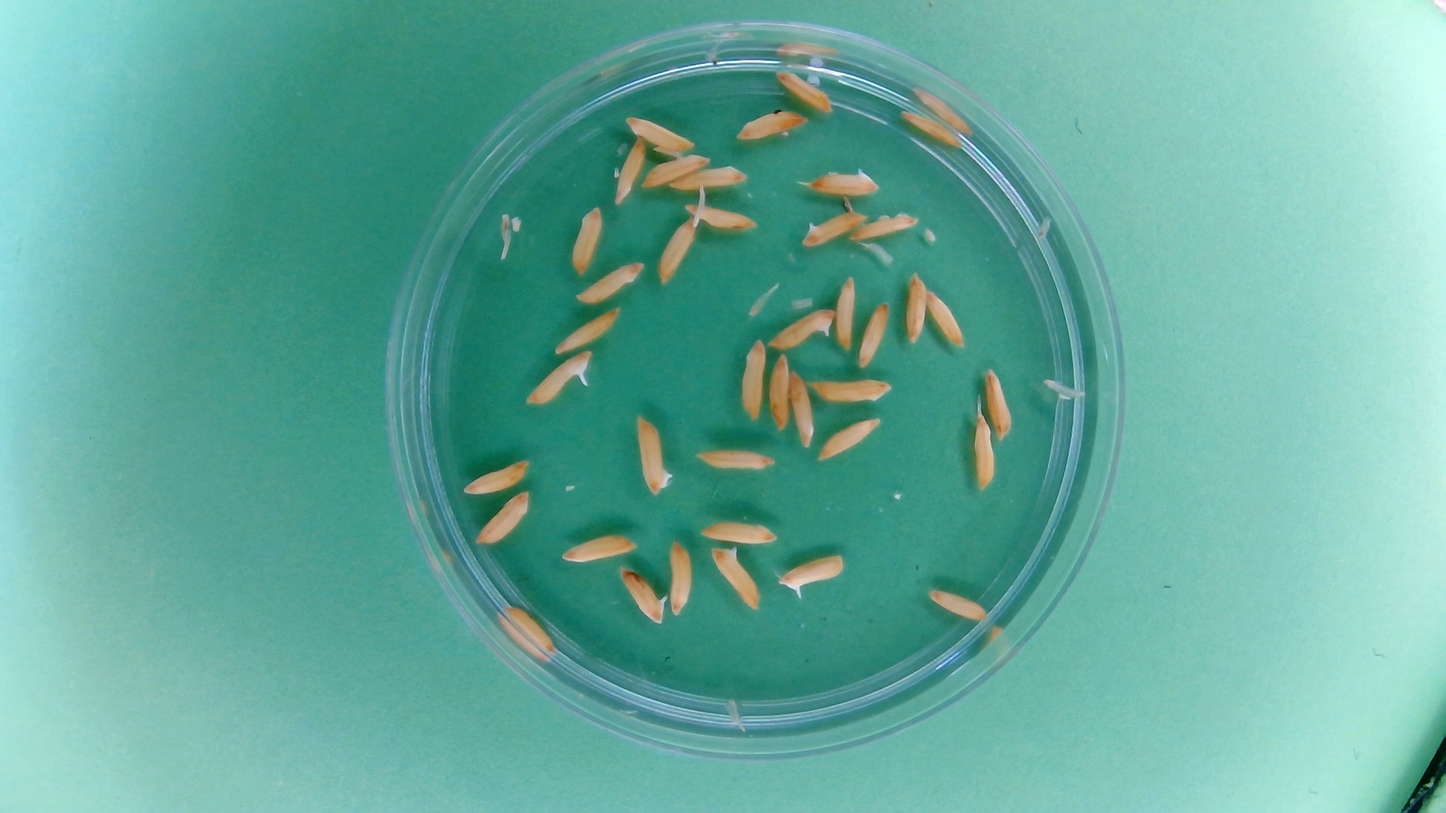no: (708, 544, 761, 614), (633, 413, 675, 497), (572, 260, 647, 306), (552, 306, 622, 355), (473, 490, 533, 547), (817, 415, 883, 464), (616, 564, 667, 626), (622, 114, 697, 156), (771, 66, 834, 116), (502, 601, 558, 656), (656, 215, 699, 285), (897, 106, 964, 150), (639, 151, 710, 190), (734, 107, 810, 143), (856, 298, 894, 370), (925, 288, 967, 352), (737, 338, 769, 422), (567, 203, 603, 277), (667, 162, 752, 193), (462, 458, 531, 496), (807, 376, 894, 406), (560, 531, 639, 564), (925, 585, 990, 625), (981, 366, 1015, 441), (611, 135, 647, 205), (807, 165, 883, 198), (787, 367, 817, 450), (697, 517, 779, 547), (970, 409, 999, 493), (666, 537, 696, 617), (694, 446, 776, 474), (765, 350, 792, 434), (831, 272, 859, 351), (849, 211, 918, 242), (902, 270, 929, 345)
yes: (525, 350, 595, 407), (777, 554, 845, 594), (801, 207, 865, 249), (682, 199, 758, 233), (770, 310, 834, 348)
